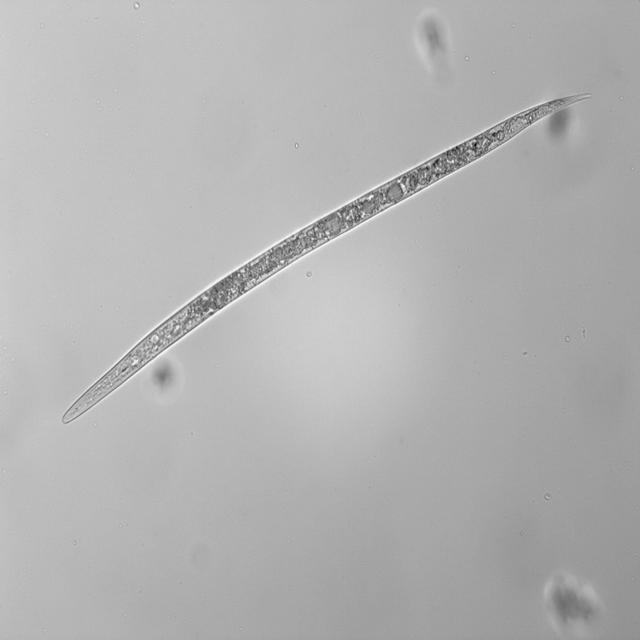Meloidogyne: (52, 86, 593, 433)
